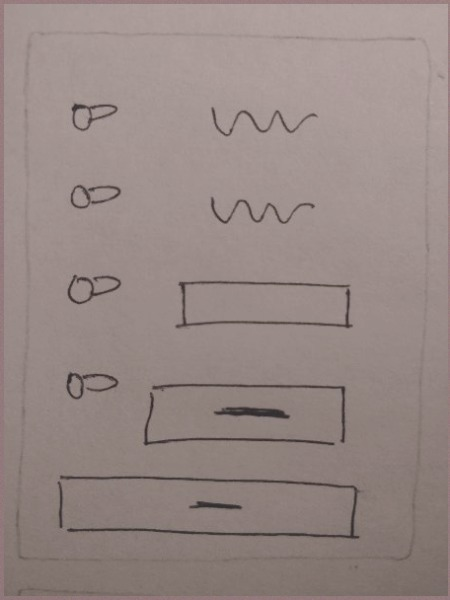button: (48, 468, 367, 548), (137, 375, 356, 458)
switch: (62, 267, 132, 318), (59, 361, 125, 412), (63, 90, 127, 138), (60, 169, 126, 215)
text: (198, 96, 323, 149), (198, 187, 321, 237)
text_input: (168, 271, 364, 345)
